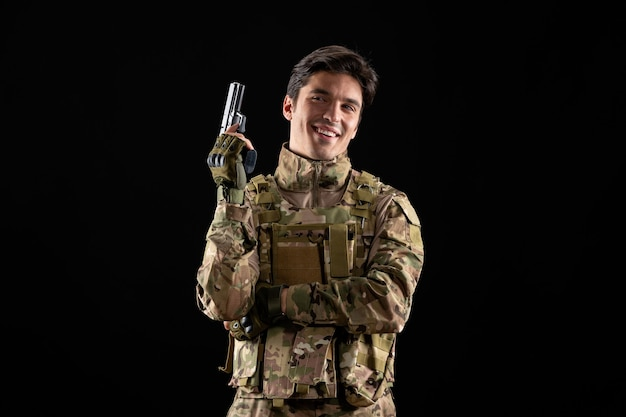gun: (223, 82, 258, 174)
